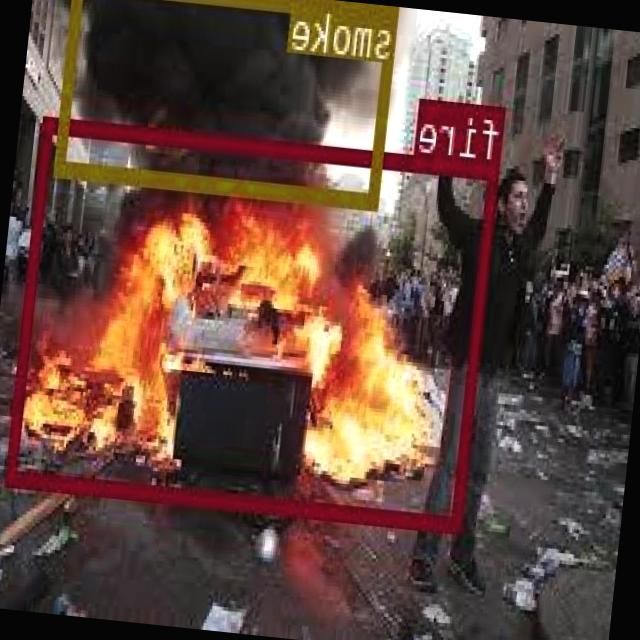fire: (9, 114, 502, 530)
smoke: (57, 0, 401, 208)
